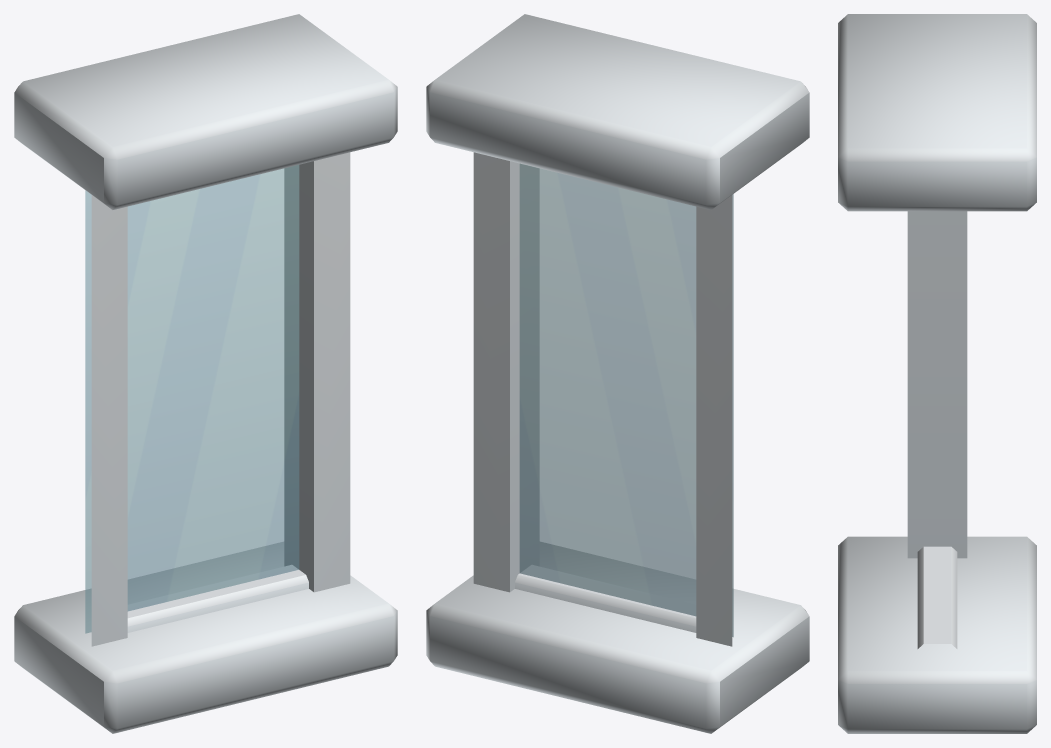
Rendered from window-large-modular.glb.
3 views of the same model, side by side, from view 1: azimuth 30°, elevation 25°; view 2: azimuth 150°, elevation 25°; view 3: azimuth 270°, elevation 25° (orthographic).
Visible parts, largest first — view 1: window_large_modular; view 2: window_large_modular; view 3: window_large_modular.
Boxes of the visible parts, bbox=[...] form: window_large_modular: bbox=[14, 14, 397, 733]; window_large_modular: bbox=[426, 14, 809, 733]; window_large_modular: bbox=[838, 14, 1036, 733].
Size of the model in its own units: 1.7 by 3.25 by 1.
2 materials, 2 textured.
